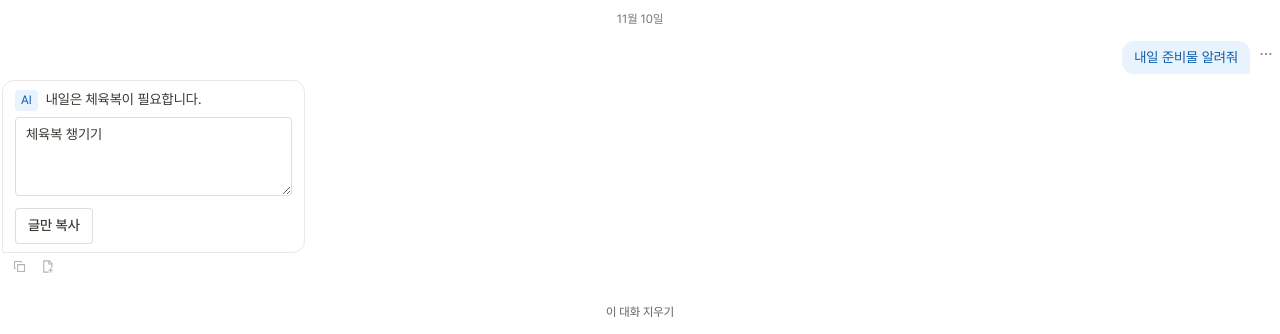
Test case: AI 대답 "복사": 요약과 초안 글을 클립보드로, 단추는 "복사됨"
Click the button named "복사" at [19, 267], box [6, 255, 32, 279]
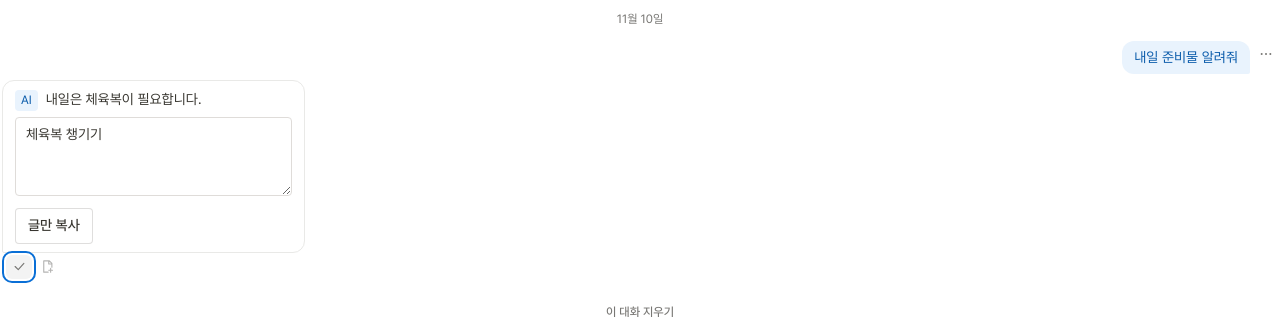
expect the button named "복사됨" is shown: met, box [6, 255, 32, 279]
